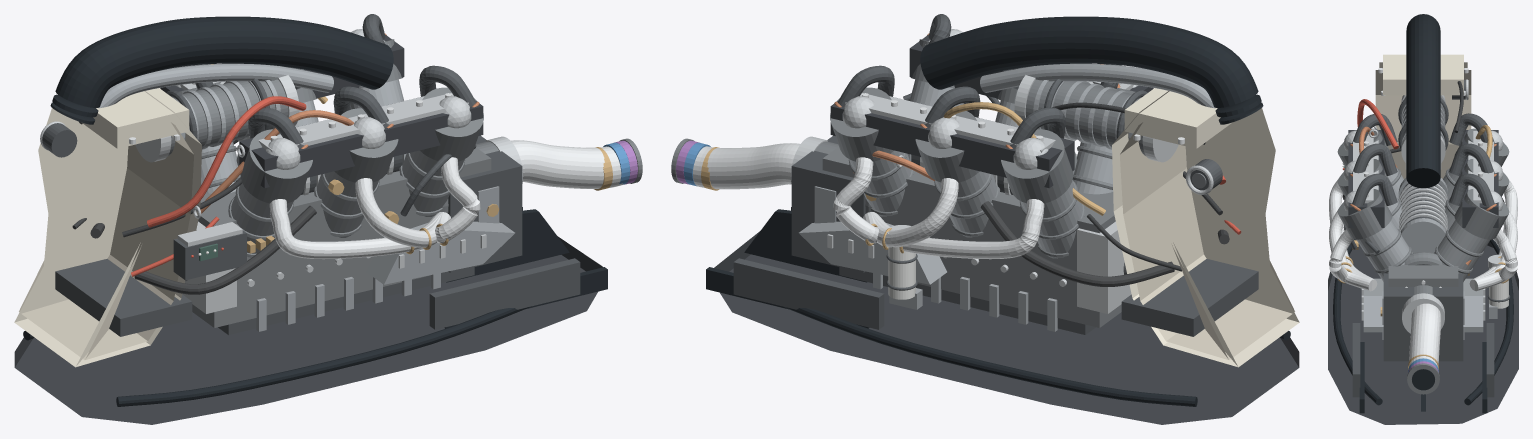
The model's file is f1_engine_exposed_reconstruction.glb.
3 views of the same model, side by side, from view 1: azimuth 30°, elevation 25°; view 2: azimuth 150°, elevation 25°; view 3: azimuth 270°, elevation 25° (orthographic). The views are drawn at different scales.
Visible parts, largest first — view 1: Carbon-fibre lower chassis pan, Sculpted carbon intake spine, Ivory composite side plenum left, Ivory composite side plenum right, Central cast engine crankcase, Side crash / diffuser support -1, Plenum lower mounting flange, Lower chassis side rail -1, left bank long valve cover, Exhaust thermal shield -1, Intake spine inner metallic tube, Plenum upper bridge (+35 smaller); view 2: Carbon-fibre lower chassis pan, Sculpted carbon intake spine, Ivory composite side plenum left, Ivory composite side plenum right, Central cast engine crankcase, Side crash / diffuser support +1, Plenum lower mounting flange, Lower chassis side rail +1, right bank long valve cover, Intake spine inner metallic tube, Plenum upper bridge, Main titanium exhaust tailpipe (+32 smaller); view 3: Carbon-fibre lower chassis pan, Sculpted carbon intake spine, Rear gearbox casing, Ivory composite side plenum right, Plenum upper bridge, Exhaust thermal shield -1, Main titanium exhaust tailpipe, Central cast engine crankcase, right bank cylinder barrel 3, left bank cylinder barrel 3, left bank cylinder head 3, right bank cylinder head 3 (+47 smaller).
Part boxes in pixels (left/top/right/bottom): Carbon-fibre lower chassis pan: left=14, top=236, right=602, bottom=424; Sculpted carbon intake spine: left=50, top=16, right=393, bottom=124; Ivory composite side plenum left: left=14, top=91, right=201, bottom=367; Ivory composite side plenum right: left=19, top=122, right=193, bottom=360; Central cast engine crankcase: left=192, top=147, right=491, bottom=327; Side crash / diffuser support -1: left=429, top=258, right=580, bottom=329; Plenum lower mounting flange: left=55, top=259, right=192, bottom=336; Lower chassis side rail -1: left=116, top=307, right=529, bottom=406; left bank long valve cover: left=239, top=100, right=483, bottom=188; Exhaust thermal shield -1: left=367, top=221, right=514, bottom=284; Intake spine inner metallic tube: left=98, top=63, right=333, bottom=108; Plenum upper bridge: left=81, top=88, right=189, bottom=148; Carbon-fibre lower chassis pan: left=714, top=231, right=1299, bottom=424; Sculpted carbon intake spine: left=920, top=16, right=1263, bottom=124; Ivory composite side plenum left: left=1112, top=91, right=1299, bottom=367; Ivory composite side plenum right: left=1120, top=122, right=1294, bottom=360; Central cast engine crankcase: left=822, top=147, right=1121, bottom=327; Side crash / diffuser support +1: left=733, top=258, right=884, bottom=329; Plenum lower mounting flange: left=1121, top=259, right=1258, bottom=336; Lower chassis side rail +1: left=784, top=307, right=1197, bottom=406; right bank long valve cover: left=830, top=100, right=1074, bottom=188; Intake spine inner metallic tube: left=980, top=63, right=1215, bottom=108; Plenum upper bridge: left=1124, top=88, right=1232, bottom=148; Main titanium exhaust tailpipe: left=693, top=143, right=800, bottom=189; Carbon-fibre lower chassis pan: left=1328, top=242, right=1518, bottom=424; Sculpted carbon intake spine: left=1406, top=14, right=1440, bottom=188; Rear gearbox casing: left=1383, top=273, right=1463, bottom=361; Ivory composite side plenum right: left=1375, top=70, right=1471, bottom=178; Plenum upper bridge: left=1383, top=54, right=1463, bottom=95; Exhaust thermal shield -1: left=1363, top=278, right=1483, bottom=332; Main titanium exhaust tailpipe: left=1408, top=303, right=1441, bottom=367; Central cast engine crankcase: left=1388, top=264, right=1458, bottom=286; right bank cylinder barrel 3: left=1434, top=220, right=1490, bottom=281; left bank cylinder barrel 3: left=1356, top=220, right=1412, bottom=281; left bank cylinder head 3: left=1337, top=189, right=1392, bottom=239; right bank cylinder head 3: left=1454, top=189, right=1509, bottom=239.
Size of the model in its own units: 2.47 by 1.37 by 0.9648.
